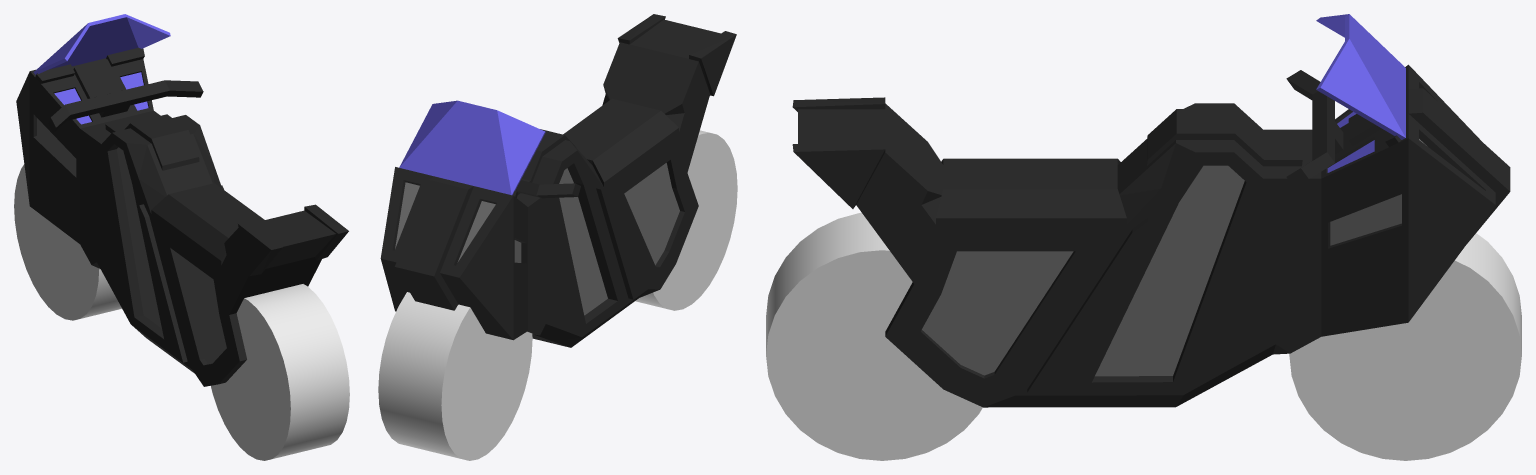
The model's file is bike.fbx.
3 renders of one model, left to right at view 1: azimuth 30°, elevation 25°; view 2: azimuth 150°, elevation 25°; view 3: azimuth 270°, elevation 25°, orthographic. The views are drawn at different scales.
Visible parts, largest first — view 1: Plane, Cylinder, Cylinder.001; view 2: Plane, Cylinder.001, Cylinder; view 3: Plane, Cylinder, Cylinder.001.
Part boxes in pixels (left/top/right/bottom): Plane: left=16, top=14, right=348, bottom=386; Cylinder: left=211, top=284, right=349, bottom=460; Cylinder.001: left=14, top=164, right=121, bottom=320; Plane: left=380, top=14, right=736, bottom=347; Cylinder.001: left=378, top=292, right=532, bottom=460; Cylinder: left=635, top=130, right=737, bottom=310; Plane: left=792, top=14, right=1510, bottom=407; Cylinder: left=766, top=212, right=982, bottom=460; Cylinder.001: left=1289, top=233, right=1521, bottom=460.
Size of the model in its own units: 80 by 158 by 260.
